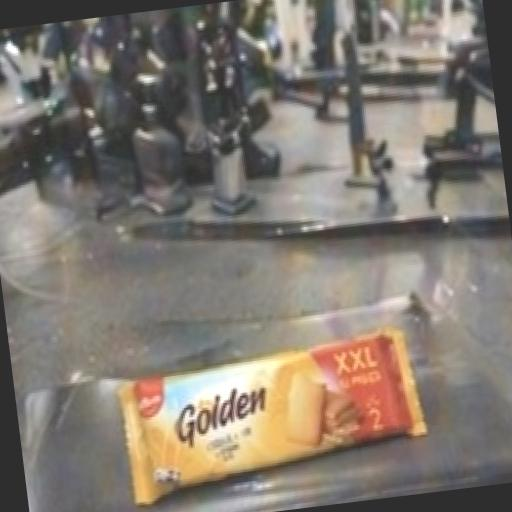golden: (87, 289, 510, 512)
